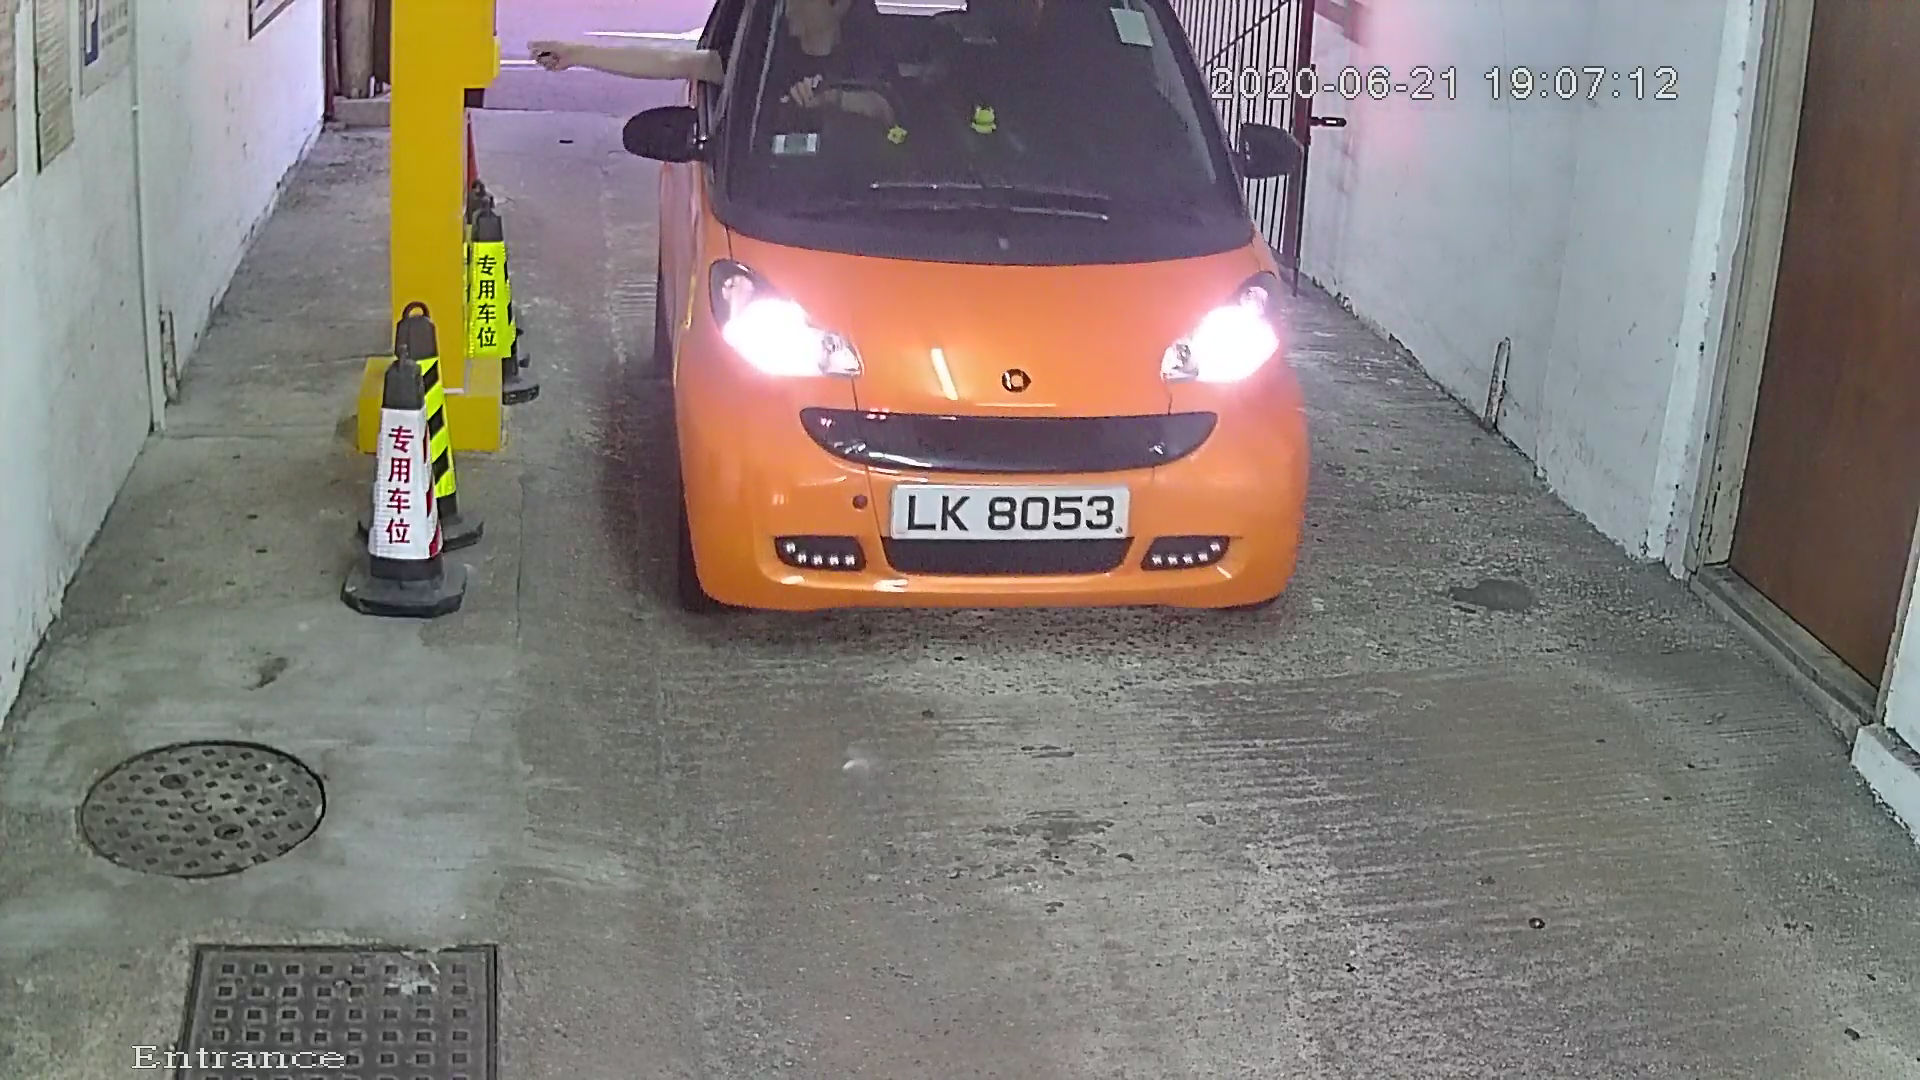privatecar: (628, 3, 1377, 684)
